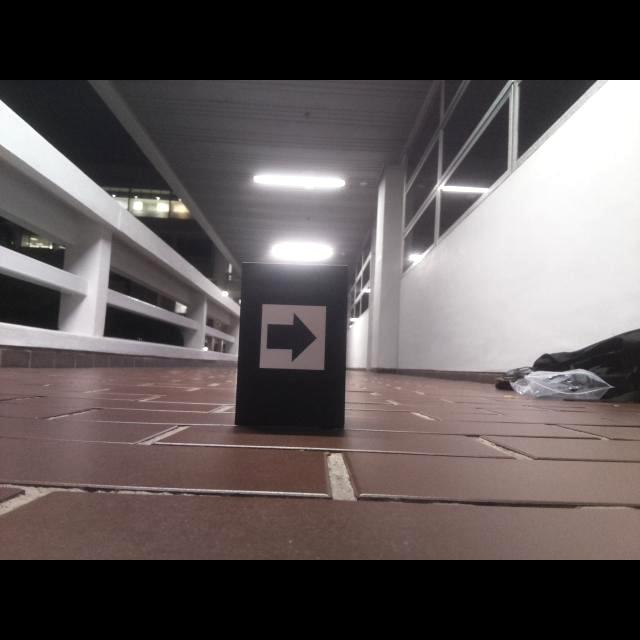RIGHT: (267, 313, 316, 363)
